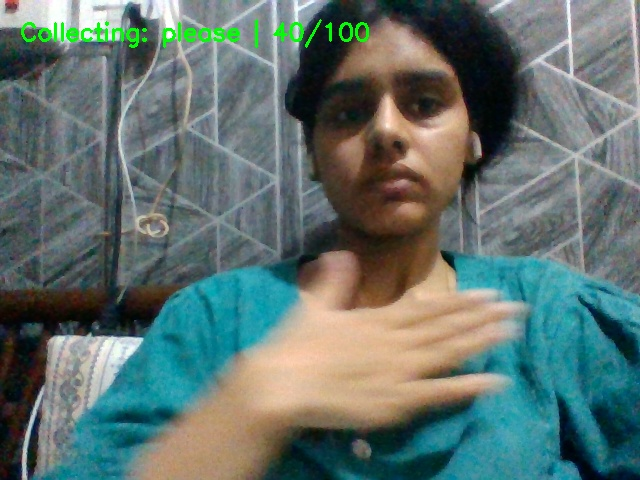please: (214, 249, 562, 451)
